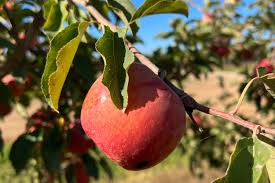apple: (74, 61, 194, 172)
